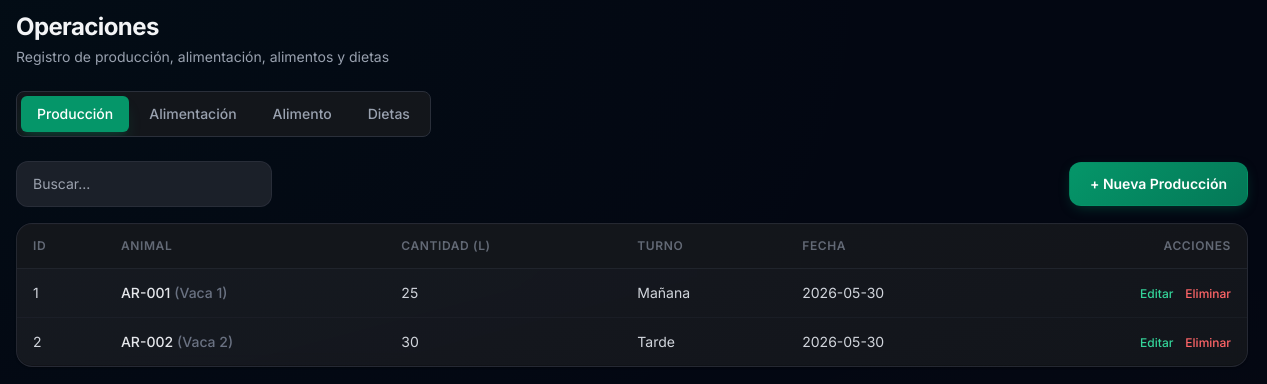
Test case: OperacionesPage - Botones añadir › cambia al tab Alimentación y muestra datos correctos
expect the text "AR-001" is shown: met, box [121,284,170,301]
Click the button "Alimentación" at (193, 114), box [133,96,252,132]
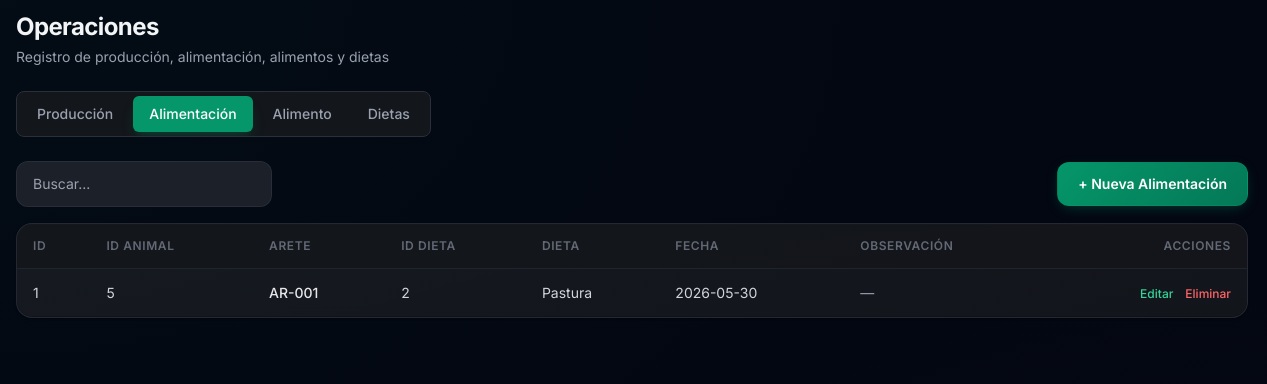
expect the text "5" is shown: met, box [90,269,253,317]
expect the text "Pastura" is shown: met, box [526,269,659,317]
